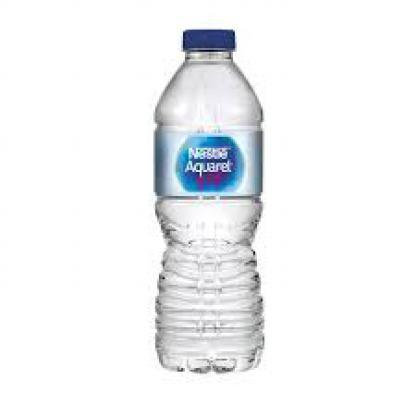plastic_bottle: (153, 29, 265, 375)
